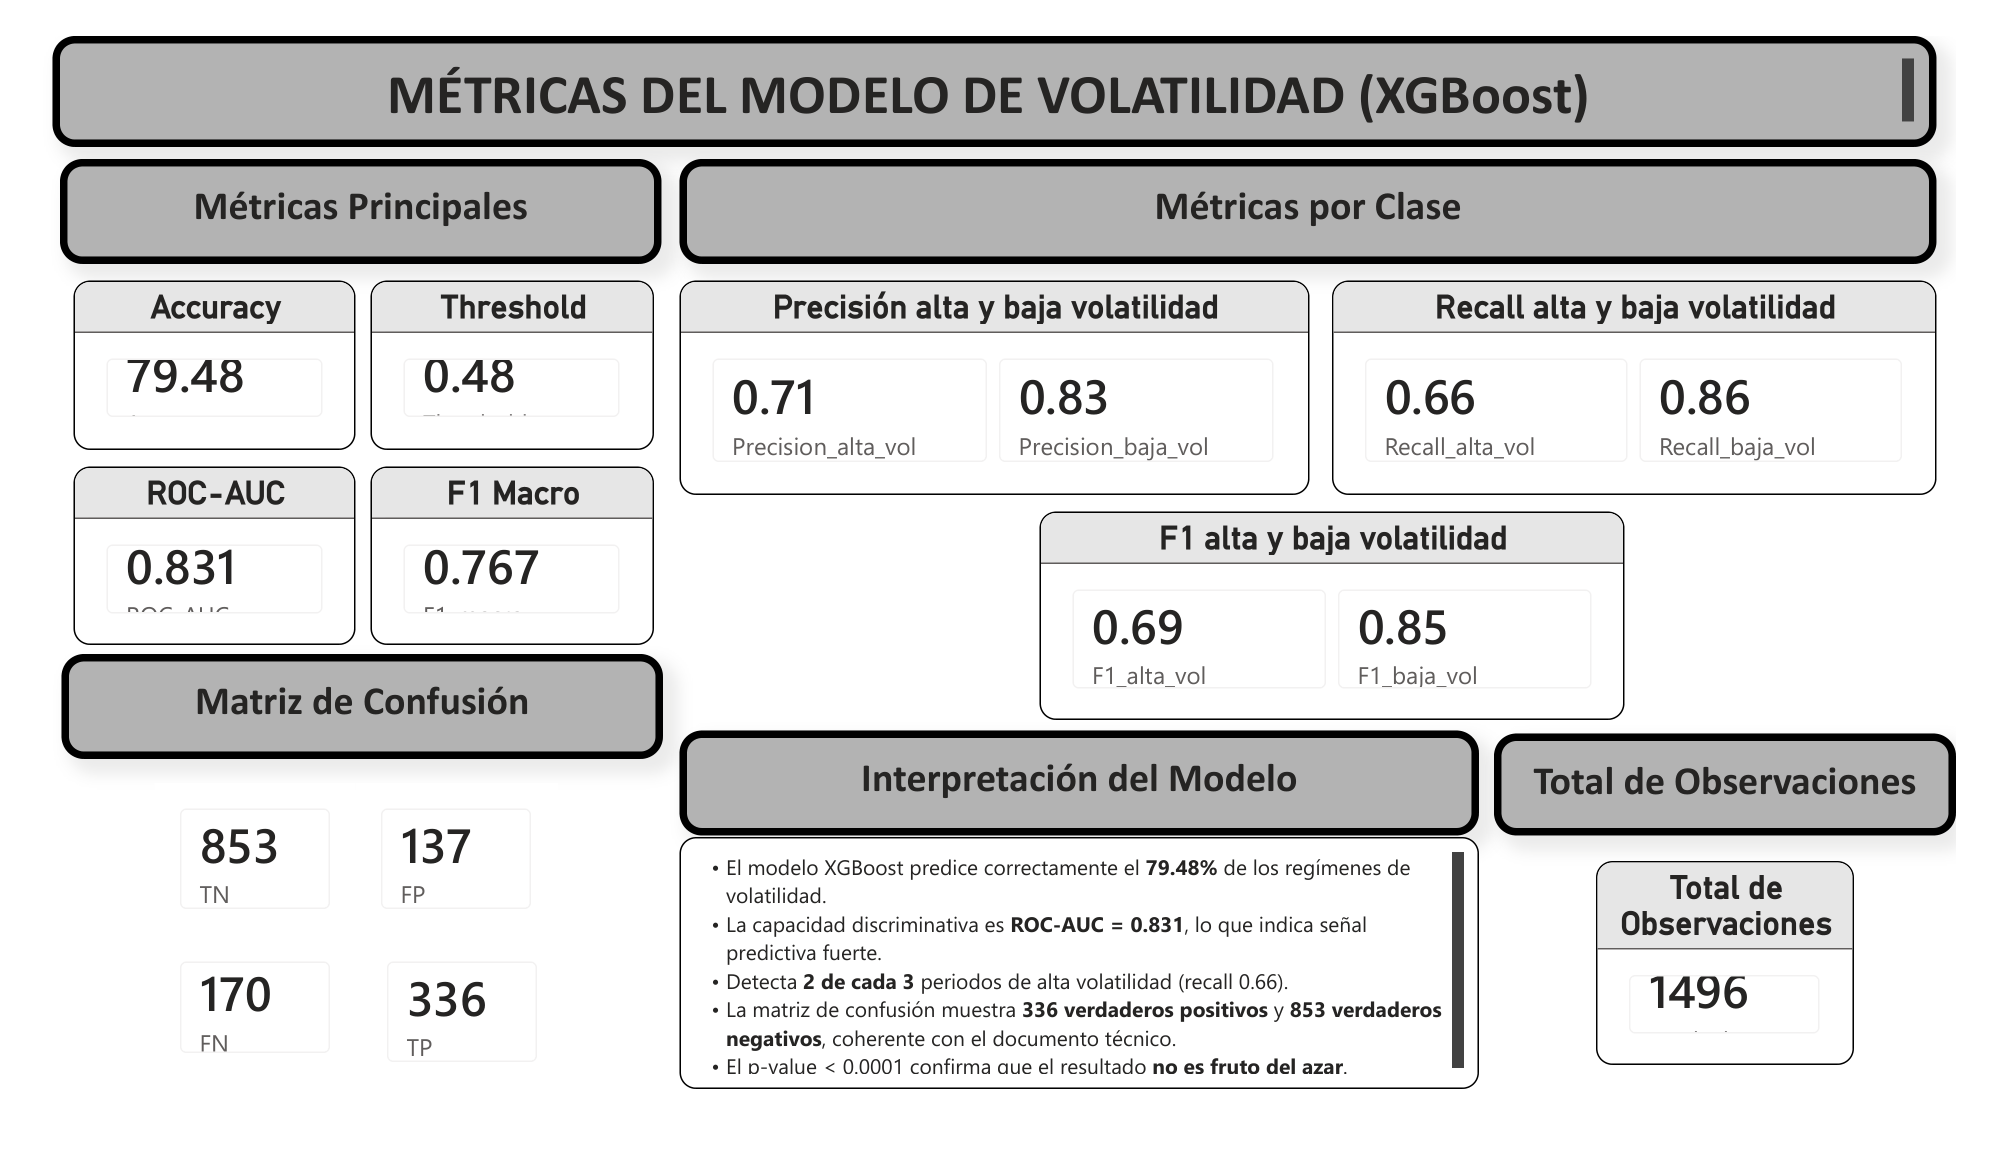

The page's visual inventory and layout, read from the dashboard file:
{"tool":"powerbi","page":{"name":"Página 1","canvas":[1280,720],"ordinal":0},"visuals":[{"type":"textbox","box":[11,0,1256.4,73.6],"z":0},{"type":"textbox","box":[16,82.2,401.2,69.9],"z":1000},{"type":"cardVisual","title":"Accuracy","fields":{"Data":["resultados_modelo_xgboost.Accuracy"]},"box":[24.5,163.2,189,112.9],"z":2000},{"type":"cardVisual","title":"ROC-AUC","fields":{"Data":["resultados_modelo_xgboost.ROC_AUC"]},"box":[24.5,287.1,189,119],"z":3000},{"type":"cardVisual","title":"F1 Macro","fields":{"Data":["resultados_modelo_xgboost.F1_macro"]},"box":[223.3,287.1,189,119],"z":4000},{"type":"cardVisual","title":"Threshold","fields":{"Data":["resultados_modelo_xgboost.Threshold"]},"box":[223.3,163.2,189,112.9],"z":5000},{"type":"textbox","box":[429.5,82.2,838,69.9],"z":6001},{"type":"cardVisual","title":"Precisión alta y baja volatilidad","fields":{"Data":["resultados_modelo_xgboost.Precision_alta_vol","resultados_modelo_xgboost.Precision_baja_vol"]},"box":[429.5,163.2,419.6,142.3],"z":6002},{"type":"cardVisual","title":"Recall alta y baja volatilidad","fields":{"Data":["resultados_modelo_xgboost.Recall_alta_vol","resultados_modelo_xgboost.Recall_baja_vol"]},"box":[863.8,163.2,403.7,142.3],"z":6003},{"type":"cardVisual","title":"F1 alta y baja volatilidad","fields":{"Data":["resultados_modelo_xgboost.F1_alta_vol","resultados_modelo_xgboost.F1_baja_vol"]},"box":[668.7,316.6,390.2,139.9],"z":6004},{"type":"textbox","box":[17.2,412.3,401.2,69.9],"z":6005},{"type":"cardVisual","title":"TN","fields":{"Data":["resultados_modelo_xgboost.TN"]},"box":[78.5,498.2,135,101.8],"z":6006},{"type":"cardVisual","title":"Accuracy","fields":{"Data":["resultados_modelo_xgboost.FN"]},"box":[78.5,600,135,95.7],"z":6008},{"type":"cardVisual","title":"FP","fields":{"Data":["resultados_modelo_xgboost.FP"]},"box":[213.5,498.2,135,101.8],"z":6009},{"type":"cardVisual","title":"Accuracy","fields":{"Data":["resultados_modelo_xgboost.TP"]},"box":[217.2,600,135,101.8],"z":6010},{"type":"textbox","box":[429.5,462.6,532.5,69.9],"z":6011},{"type":"textbox","box":[971.8,465,308,67.5],"z":6012},{"type":"cardVisual","title":"Total de Observaciones","fields":{"Data":["resultados_modelo_xgboost.Total_observaciones"]},"box":[1040.5,549.7,171.8,136.2],"z":6013},{"type":"textbox","box":[429.5,533.7,532.5,168.1],"z":6014}]}

Visuals, with their boxes in screenshot pixels (x1, y1, x2, y2), scaled from the page's 1280x720 canvas onto the 1992x1152 screenshot:
textbox: 17,0,1972,118
textbox: 25,132,649,243
"Accuracy" cardVisual: 38,261,332,442
"ROC-AUC" cardVisual: 38,459,332,650
"F1 Macro" cardVisual: 348,459,642,650
"Threshold" cardVisual: 348,261,642,442
textbox: 668,132,1973,243
"Precisión alta y baja volatilidad" cardVisual: 668,261,1321,489
"Recall alta y baja volatilidad" cardVisual: 1344,261,1973,489
"F1 alta y baja volatilidad" cardVisual: 1041,507,1648,730
textbox: 27,660,651,772
"TN" cardVisual: 122,797,332,960
"Accuracy" cardVisual: 122,960,332,1113
"FP" cardVisual: 332,797,542,960
"Accuracy" cardVisual: 338,960,548,1123
textbox: 668,740,1497,852
textbox: 1512,744,1991,852
"Total de Observaciones" cardVisual: 1619,880,1887,1097
textbox: 668,854,1497,1123
